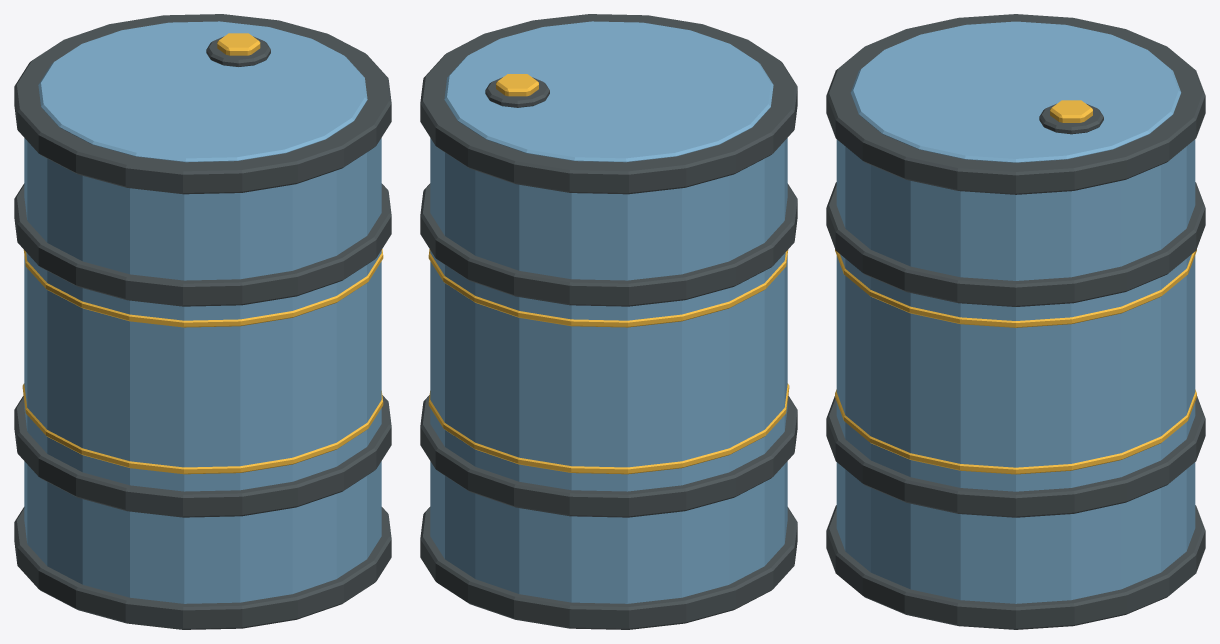
Rendered from industrial_barrel.glb.
3 views of the same model, side by side, from view 1: azimuth 30°, elevation 25°; view 2: azimuth 150°, elevation 25°; view 3: azimuth 270°, elevation 25° (orthographic).
Parts seen in each view (by area): view 1: industrial_barrel.drum, industrial_barrel.lid, industrial_barrel.hoop3, industrial_barrel.hoop2, industrial_barrel.hoop0, industrial_barrel.hoop1, industrial_barrel.band0, industrial_barrel.band1, industrial_barrel.bung-seat, industrial_barrel.bung; view 2: industrial_barrel.drum, industrial_barrel.lid, industrial_barrel.hoop3, industrial_barrel.hoop2, industrial_barrel.hoop0, industrial_barrel.hoop1, industrial_barrel.band0, industrial_barrel.band1, industrial_barrel.bung-seat, industrial_barrel.bung; view 3: industrial_barrel.drum, industrial_barrel.lid, industrial_barrel.hoop3, industrial_barrel.hoop0, industrial_barrel.hoop2, industrial_barrel.hoop1, industrial_barrel.band0, industrial_barrel.band1, industrial_barrel.bung-seat, industrial_barrel.bung.
Boxes of the visible parts, x1,y1,x2,y2 form: industrial_barrel.drum: [24, 138, 381, 603]; industrial_barrel.lid: [38, 21, 367, 162]; industrial_barrel.hoop3: [14, 14, 391, 194]; industrial_barrel.hoop2: [14, 183, 391, 306]; industrial_barrel.hoop0: [14, 507, 391, 629]; industrial_barrel.hoop1: [14, 395, 391, 517]; industrial_barrel.band0: [22, 383, 383, 474]; industrial_barrel.band1: [23, 249, 383, 327]; industrial_barrel.bung-seat: [206, 36, 270, 66]; industrial_barrel.bung: [217, 33, 260, 55]; industrial_barrel.drum: [430, 138, 787, 603]; industrial_barrel.lid: [444, 21, 773, 162]; industrial_barrel.hoop3: [420, 14, 797, 194]; industrial_barrel.hoop2: [420, 183, 797, 306]; industrial_barrel.hoop0: [420, 507, 797, 629]; industrial_barrel.hoop1: [420, 395, 797, 517]; industrial_barrel.band0: [428, 383, 789, 474]; industrial_barrel.band1: [428, 249, 788, 327]; industrial_barrel.bung-seat: [485, 77, 549, 107]; industrial_barrel.bung: [496, 74, 538, 96]; industrial_barrel.drum: [836, 139, 1195, 603]; industrial_barrel.lid: [850, 21, 1181, 162]; industrial_barrel.hoop3: [826, 14, 1205, 194]; industrial_barrel.hoop0: [826, 505, 1205, 629]; industrial_barrel.hoop2: [826, 182, 1205, 306]; industrial_barrel.hoop1: [826, 396, 1205, 517]; industrial_barrel.band0: [835, 389, 1196, 474]; industrial_barrel.band1: [835, 249, 1196, 327]; industrial_barrel.bung-seat: [1039, 103, 1103, 134]; industrial_barrel.bung: [1050, 100, 1092, 122].
Size of the model in its own units: 0.675 by 0.932 by 0.675.
